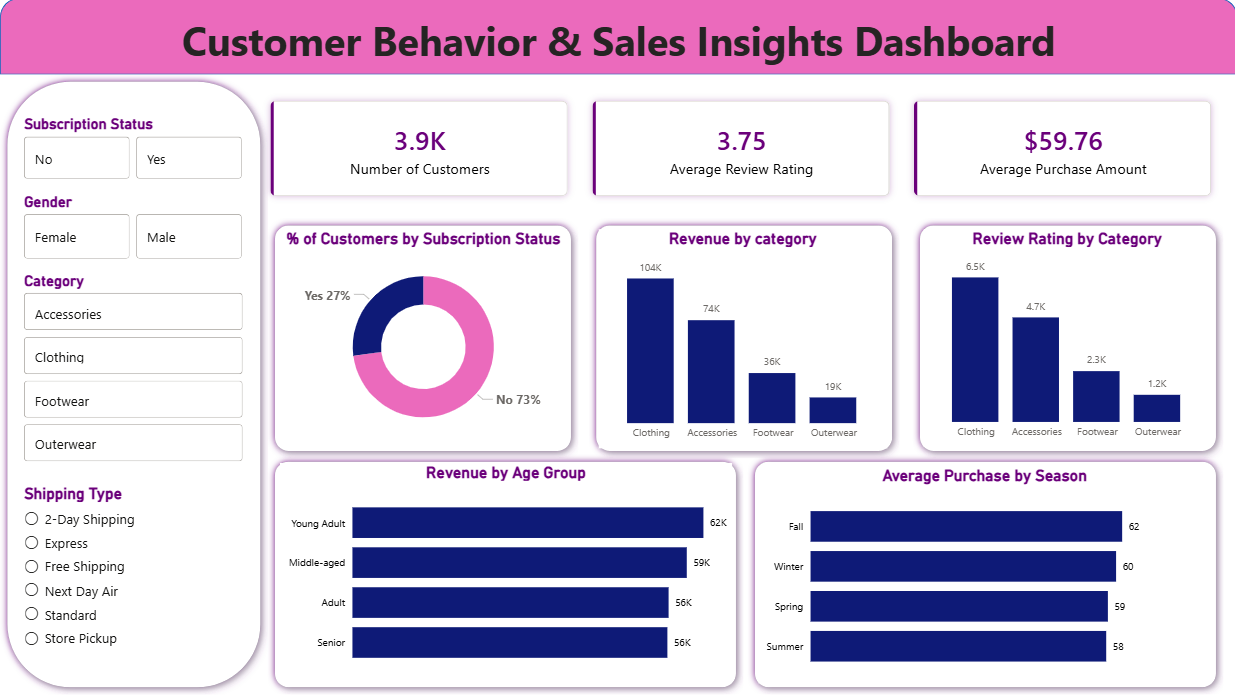

This screenshot's page, from the dashboard's own definition file:
{"tool":"powerbi","page":{"name":"Page 1","canvas":[1500,845],"ordinal":0},"visuals":[{"type":"cardVisual","fields":{"Data":["customer.Number of Customers","customer.Average Review Rating","customer.Average Purchase Amount"]},"box":[300,97.1,1198.6,171],"z":0},{"type":"shape","box":[0,0,1500,92.8],"z":1000},{"type":"textbox","box":[0,13,1500,79.7],"z":2000},{"type":"shape","box":[324.6,266.7,376.8,291.3],"z":3000},{"type":"donutChart","title":"% of Customers  by Subscription Status","fields":{"Category":["customer.subscription_status"],"Y":["CountNonNull(customer.customer_id)"]},"box":[339.1,279.7,347.8,263.8],"z":4000},{"type":"shape","box":[1105.8,266.7,376.8,291.3],"z":5000},{"type":"shape","box":[713,266.7,376.8,291.3],"z":6000},{"type":"clusteredColumnChart","title":"Revenue by category","fields":{"Y":["Sum(customer.purchase_amount)"],"Category":["customer.category"]},"box":[726.1,279.7,349.3,265.2],"z":7000},{"type":"shape","box":[0,92.8,324.6,752.2],"z":9000},{"type":"advancedSlicerVisual","title":"Subscription Status","fields":{"Values":["customer.subscription_status"]},"box":[24.6,142,275.4,82.6],"z":10000},{"type":"advancedSlicerVisual","title":"Gender","fields":{"Values":["customer.gender"]},"box":[24.6,236.2,275.4,85.5],"z":11000},{"type":"advancedSlicerVisual","title":"Category","fields":{"Values":["customer.category"]},"box":[24.6,331.9,275.4,246.4],"z":12000},{"type":"listSlicer","fields":{"Values":["customer.shipping_type"]},"box":[24.6,589.9,166.7,210.1],"z":13000},{"type":"shape","box":[324.6,553.6,576.8,291.3],"z":14000},{"type":"clusteredBarChart","title":"Revenue by Age Group","fields":{"Y":["Sum(customer.purchase_amount)"],"Category":["customer.age_group"]},"box":[339.1,563.8,547.8,262.3],"z":15000},{"type":"shape","box":[905.8,553.6,576.8,291.3],"z":16000},{"type":"clusteredBarChart","title":"Average Purchase by Season","fields":{"Category":["customer.season"],"Y":["customer.Average Purchase Amount"]},"box":[920.3,568.1,547.8,262.3],"z":17000},{"type":"clusteredColumnChart","title":"Review Rating by Category","fields":{"Category":["customer.category"],"Y":["Sum(customer.review_rating)"]},"box":[1120.3,279.7,347.8,263.8],"z":17001}]}

Visuals, with their boxes in screenshot pixels (x1, y1, x2, y2), scaled from the page's 1500x845 canvas onto the 1235x695 screenshot:
cardVisual - customer.Number of Customers x customer.Average Review Rating: 247 80 1234 221
shape: 0 0 1234 76
textbox: 0 11 1234 76
shape: 267 219 577 459
"% of Customers  by Subscription Status" donutChart: 279 230 566 447
shape: 910 219 1221 459
shape: 587 219 897 459
"Revenue by category" clusteredColumnChart: 598 230 885 448
shape: 0 76 267 694
"Subscription Status" advancedSlicerVisual: 20 117 247 185
"Gender" advancedSlicerVisual: 20 194 247 265
"Category" advancedSlicerVisual: 20 273 247 476
listSlicer - customer.shipping_type: 20 485 158 658
shape: 267 455 742 694
"Revenue by Age Group" clusteredBarChart: 279 464 730 679
shape: 746 455 1221 694
"Average Purchase by Season" clusteredBarChart: 758 467 1209 683
"Review Rating by Category" clusteredColumnChart: 922 230 1209 447
